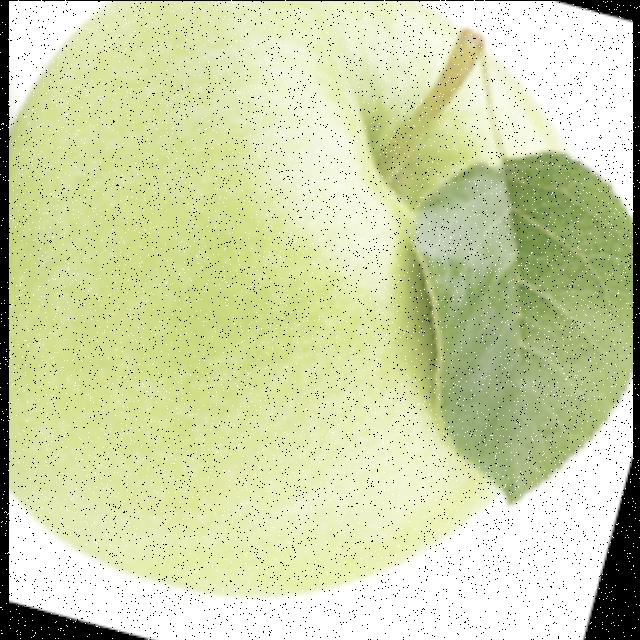Apel Segar: (8, 1, 584, 596)
